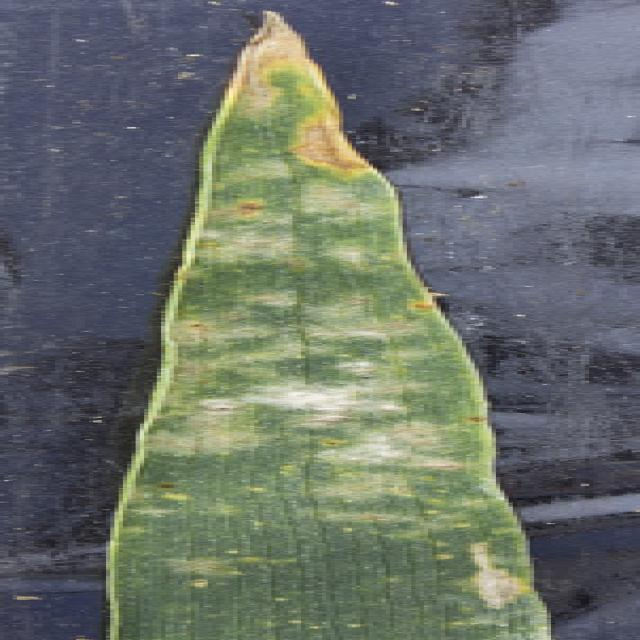wheat-powdery-mildew: (100, 12, 553, 640)
